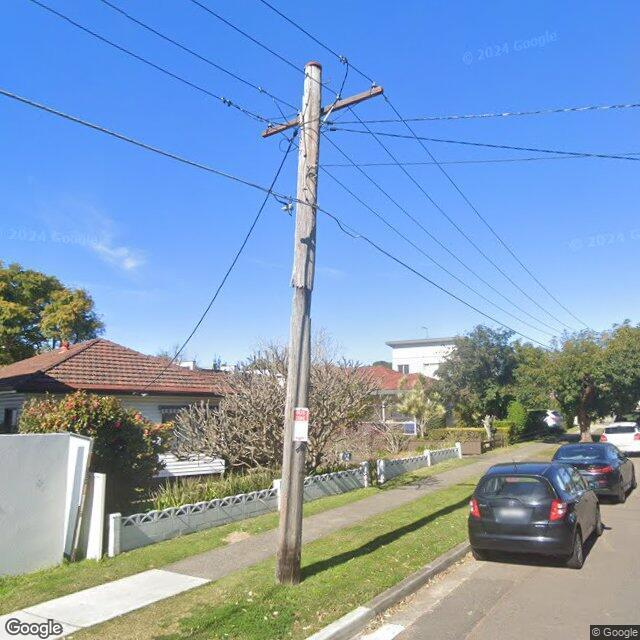crossarm: (261, 85, 385, 140)
timber-pole: (275, 62, 323, 587)
